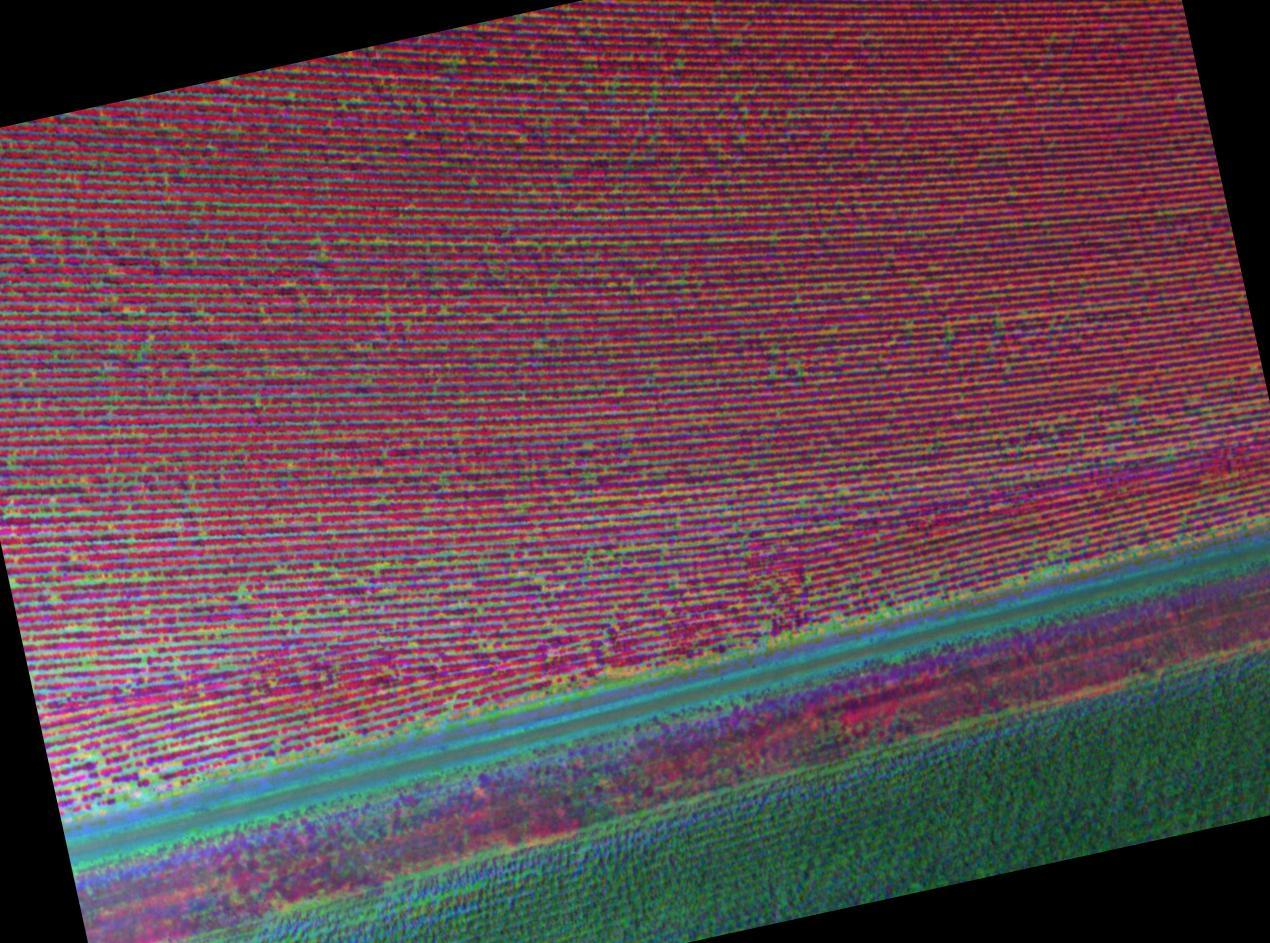dc: (1220, 497, 1226, 502), (1047, 569, 1052, 574), (83, 580, 88, 584), (611, 621, 614, 625), (554, 632, 558, 635), (385, 313, 388, 316), (287, 460, 290, 463), (4, 515, 7, 518)
